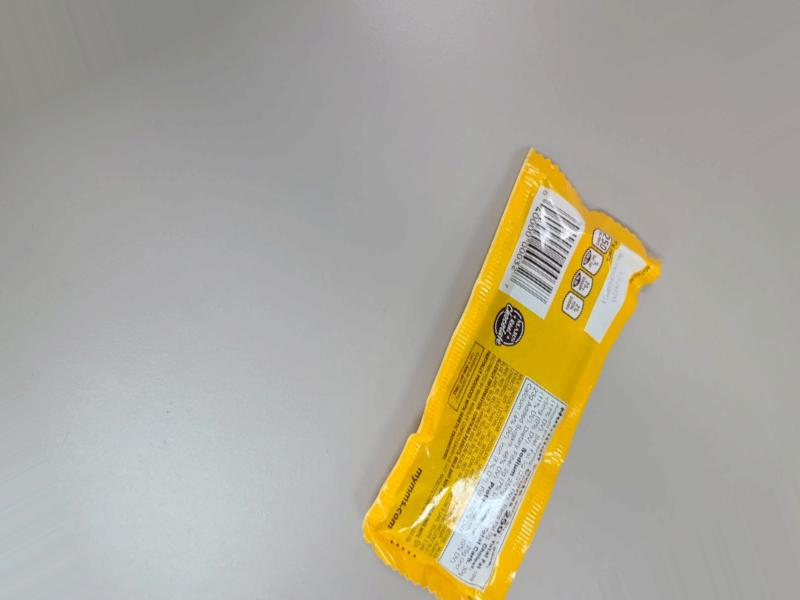m&m: (361, 134, 669, 585)
